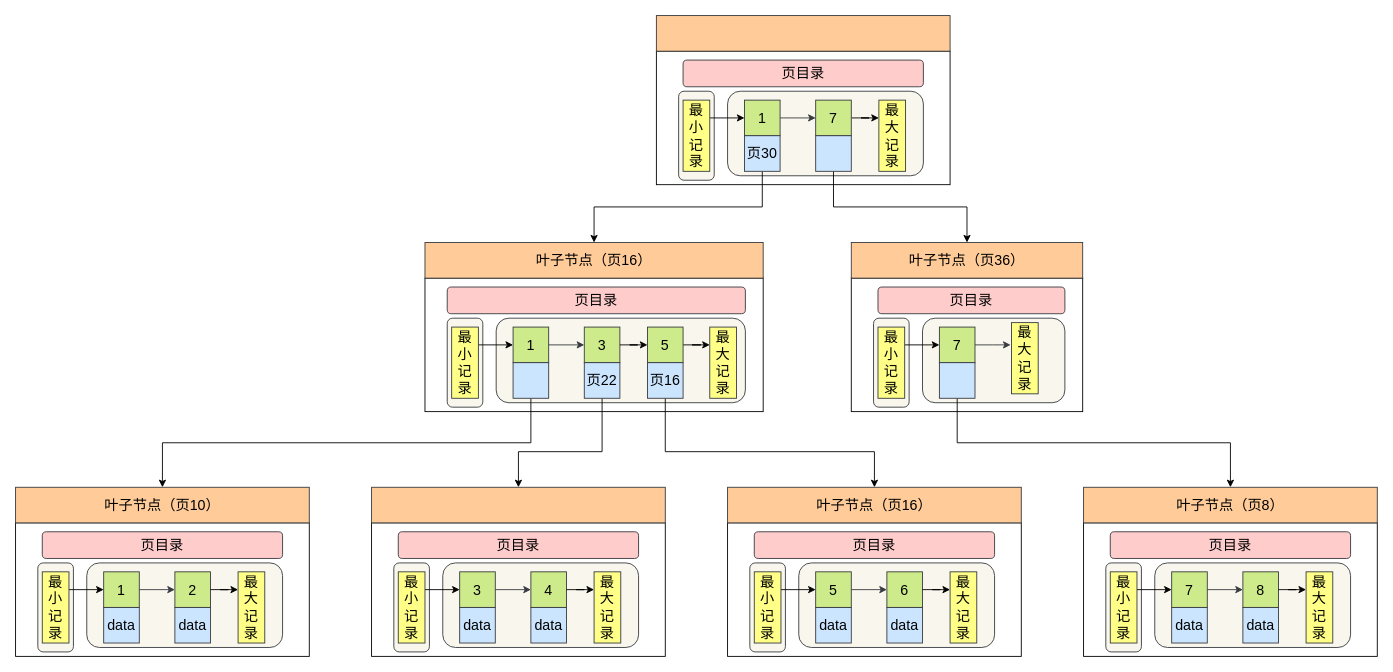
Image size: 1393x672. Some labels were removed from this diagram. Each missing label, with the centre of its shape:
叶子节点（页22）: (518,504)
根叶子节点（页38）: (802,33)
页10: (530,380)
页36: (833,153)
页8: (957,380)
